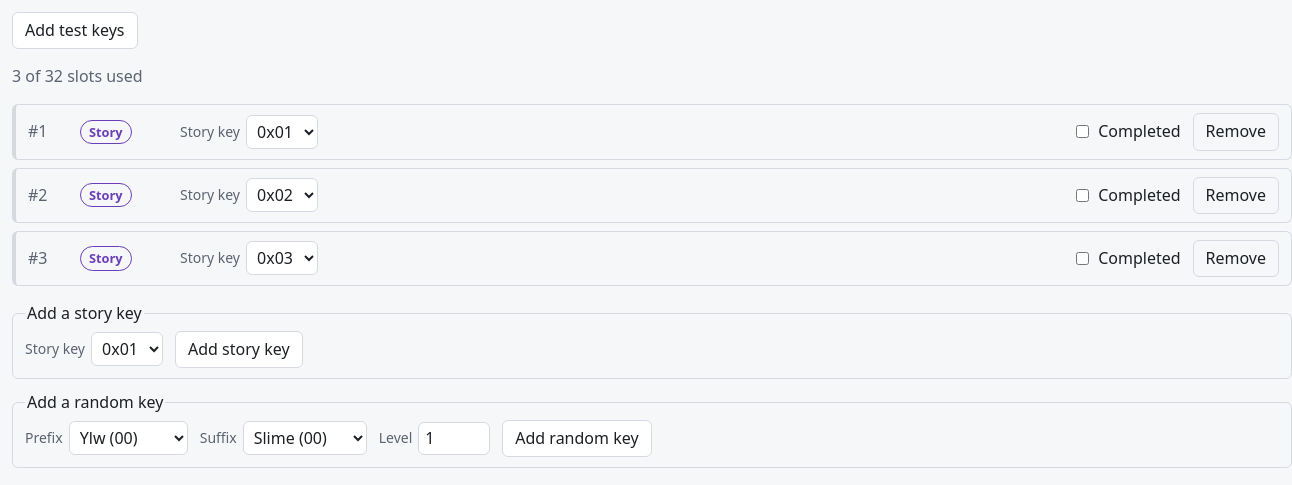
Test: MagicKeysEditor › removes a key and packs the list
Step 1. Click the 2nd button "Remove" → coordinates (1236, 195), box [1192, 177, 1279, 214]
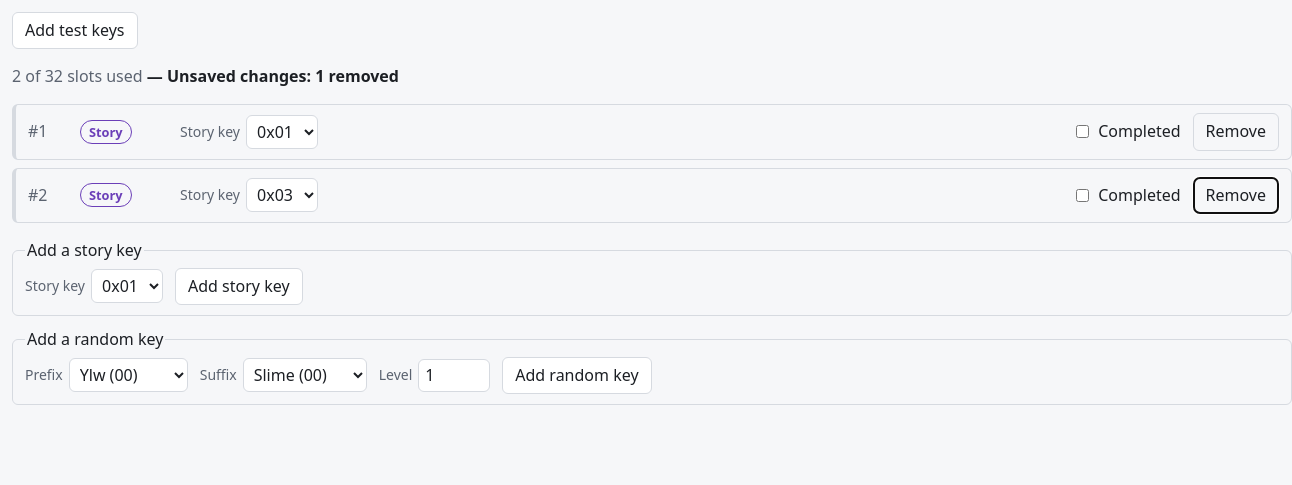
Now the text "2 of 32 slots used" is shown, box [12, 65, 399, 87]
